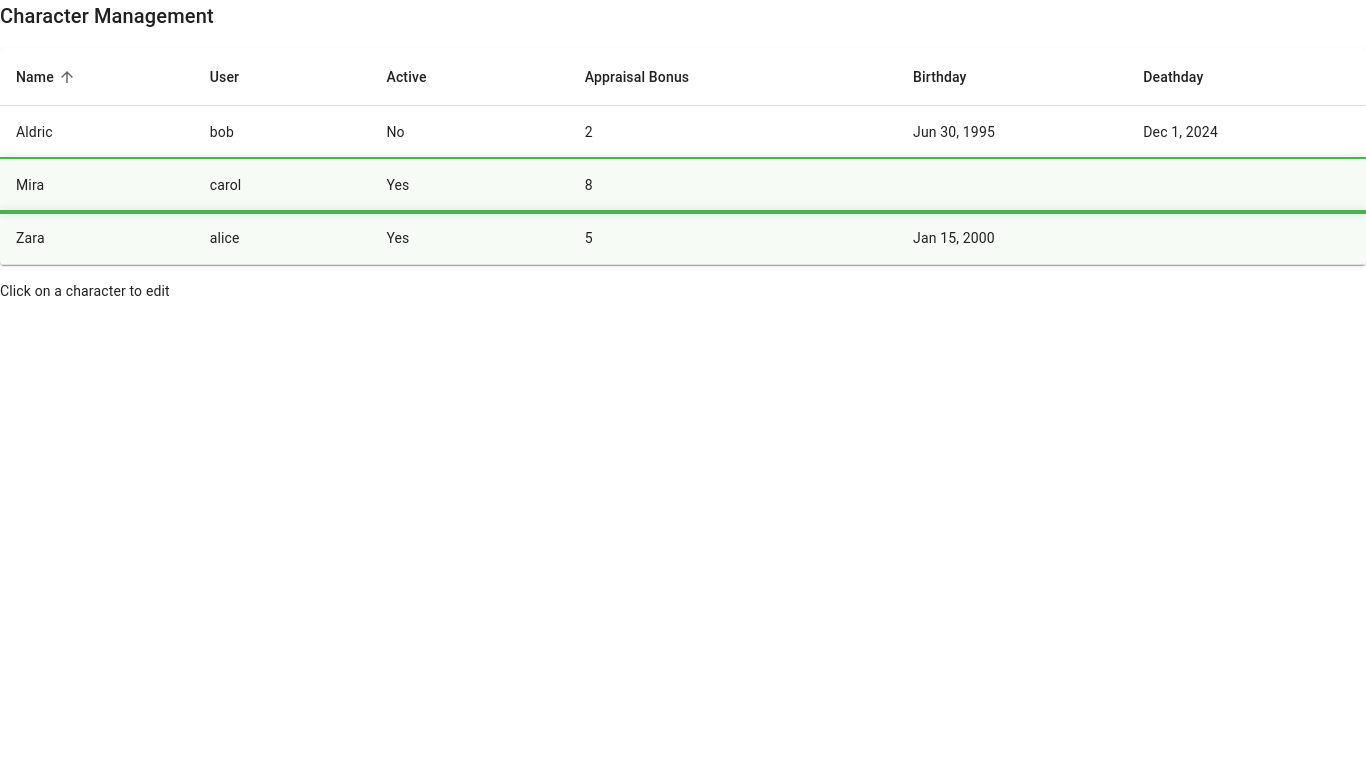
CharacterManagement (DMSettings) › updating a character › sends PUT to /user/update-any-character with the merged payload and closes dialog on success
Click the row "Zara". click: (683, 238)
box: [0,212,1365,265]
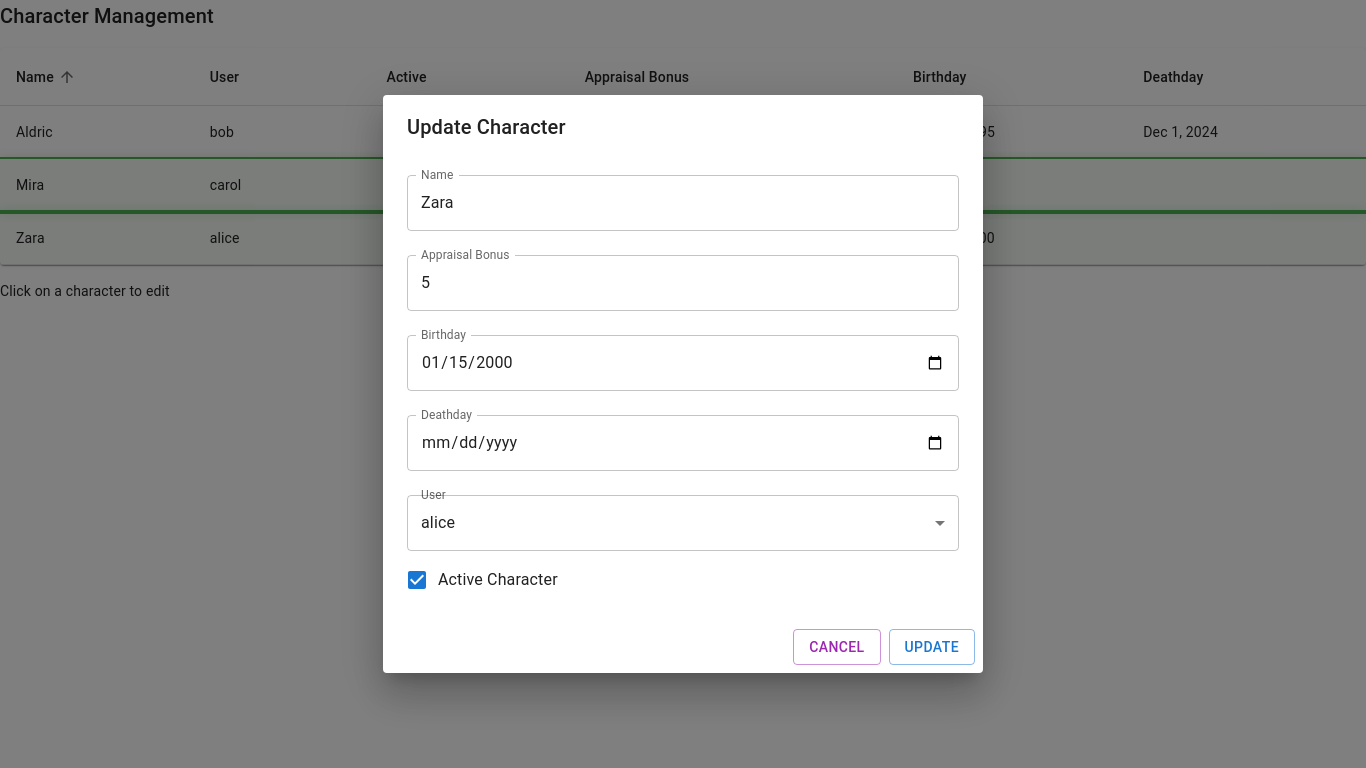
// Change the name
Replace the text in the field labelled "Name" with "Zara the Bold". click: (683, 203)
box: [407,175,959,231]
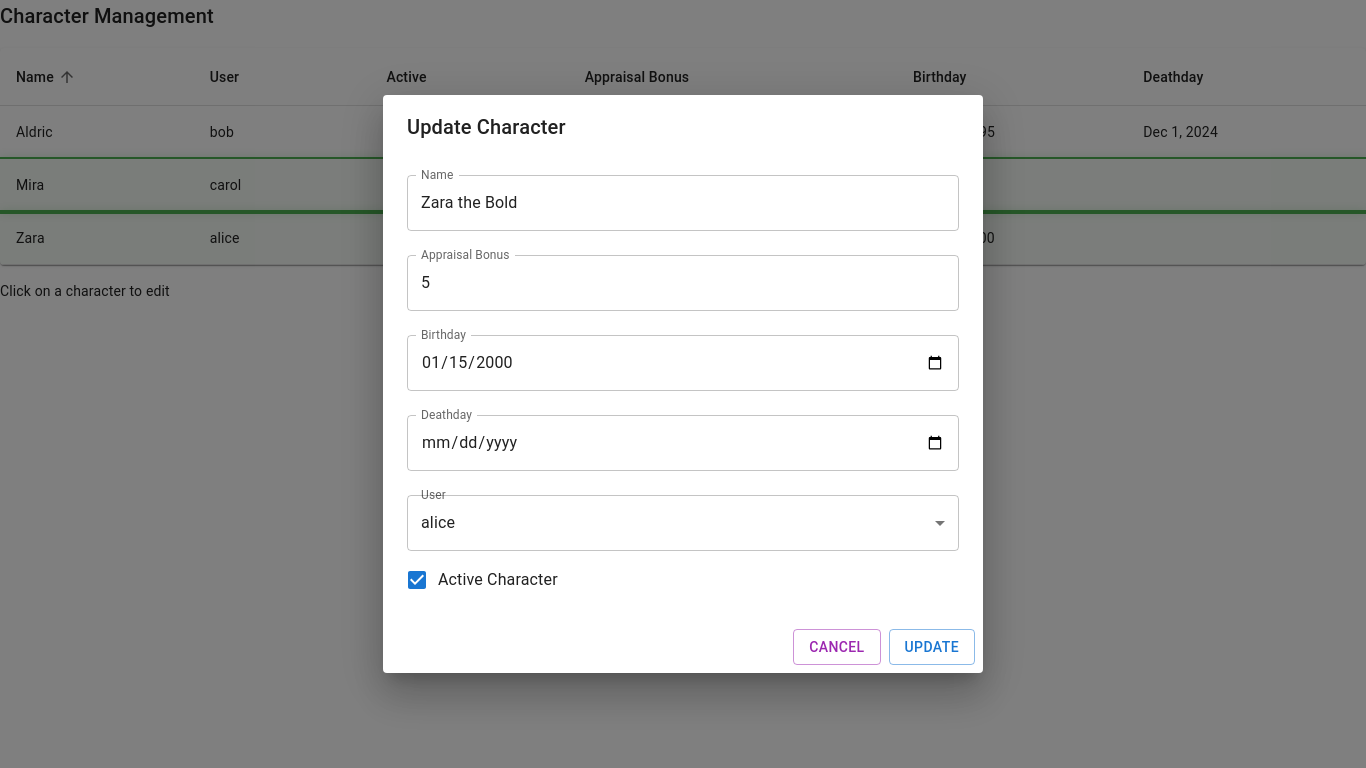
// Change appraisal bonus
Replace the text in the number field labelled "Appraisal Bonus" with "7". click: (683, 283)
box: [407,255,959,311]
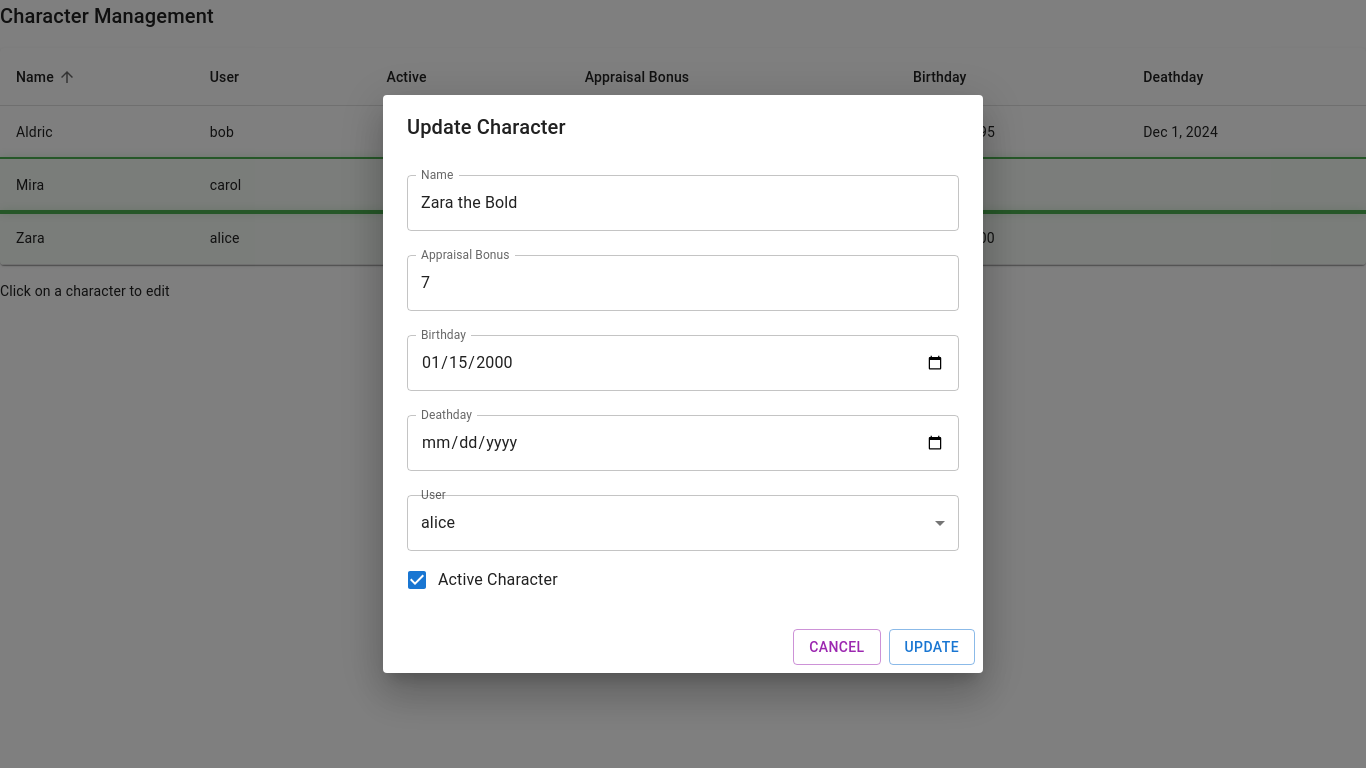
// Toggle active off
Click the checkbox labelled "Active Character". click: (481, 580)
box: [405,568,558,592]
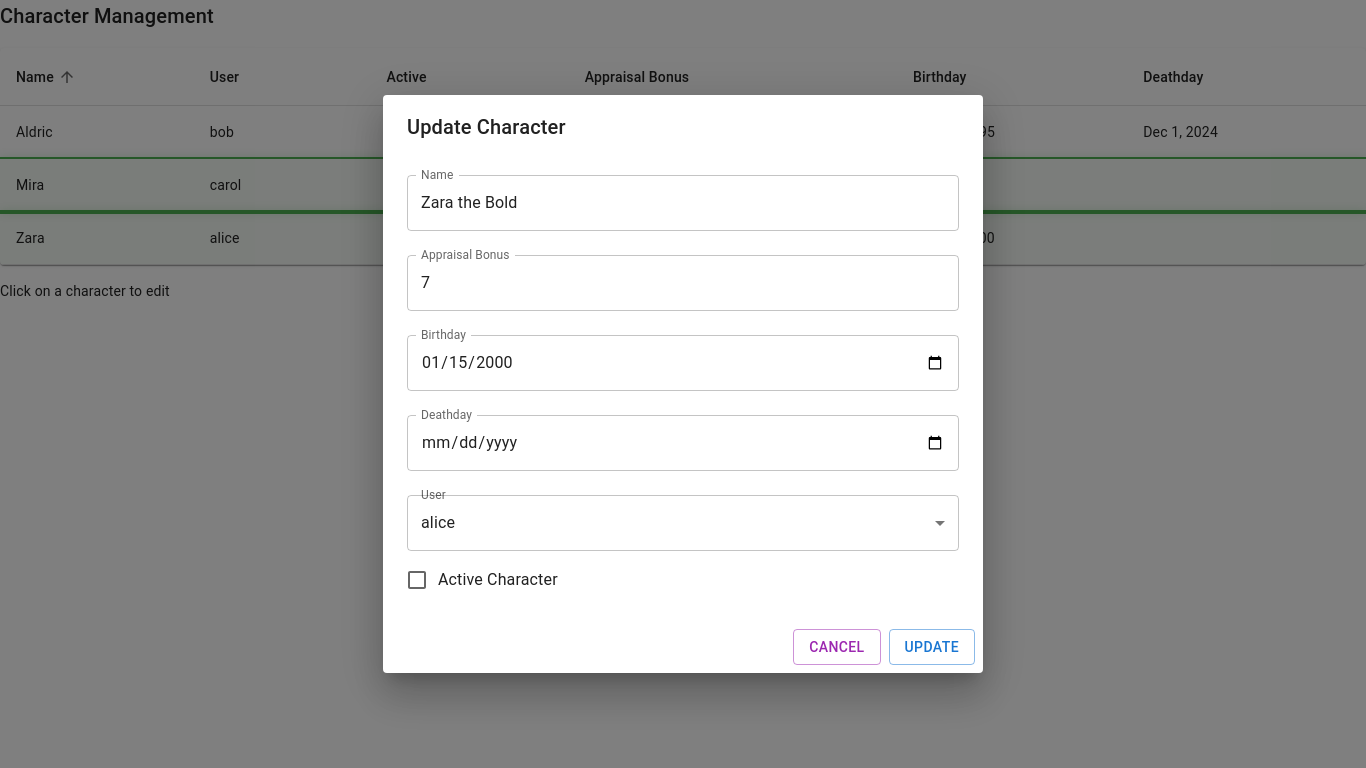
Expected: the checkbox labelled "Active Character" is not checked, [405,568,558,592]
// Set deathday to a value
Type "2026-04-01" into the date field labelled "Deathday". click: (683, 443)
box: [407,415,959,471]
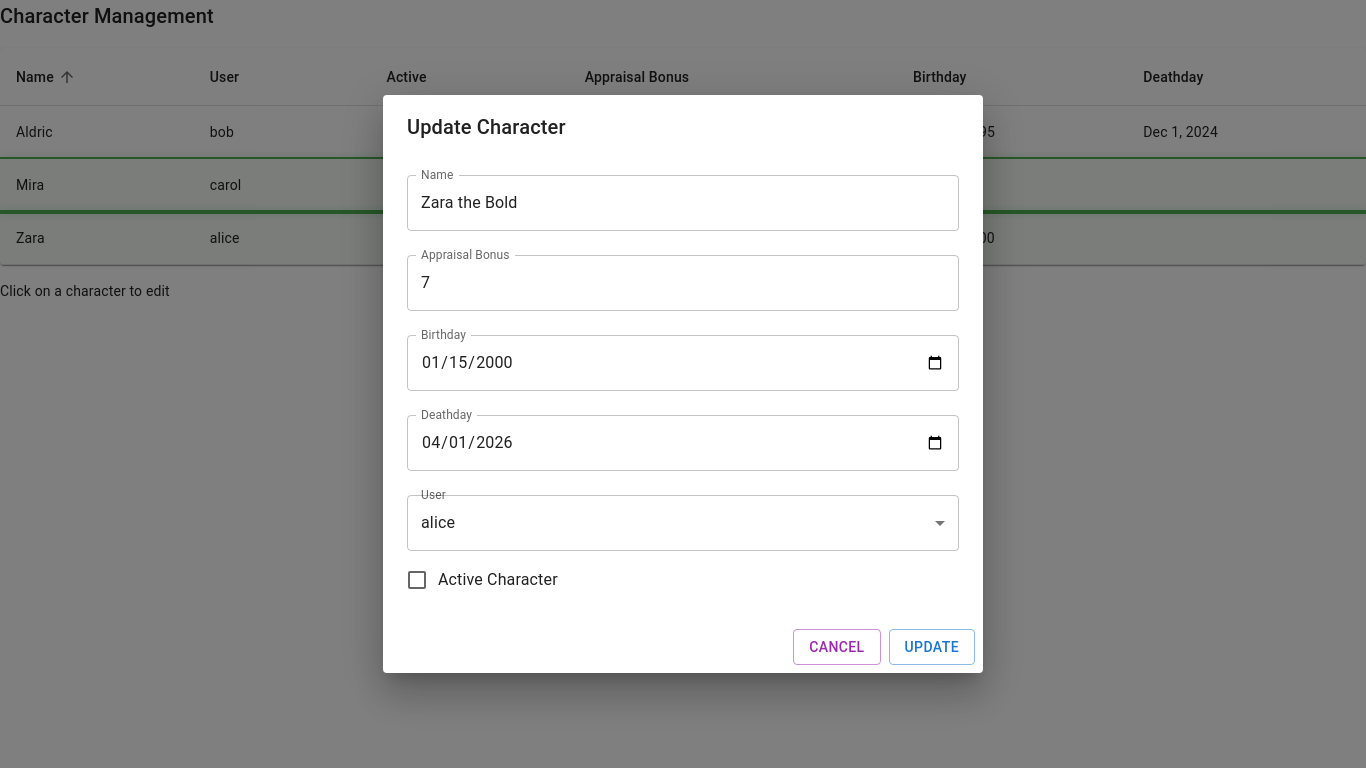
// Click Update
Click the button "Update". click: (932, 647)
box: [889,629,975,665]
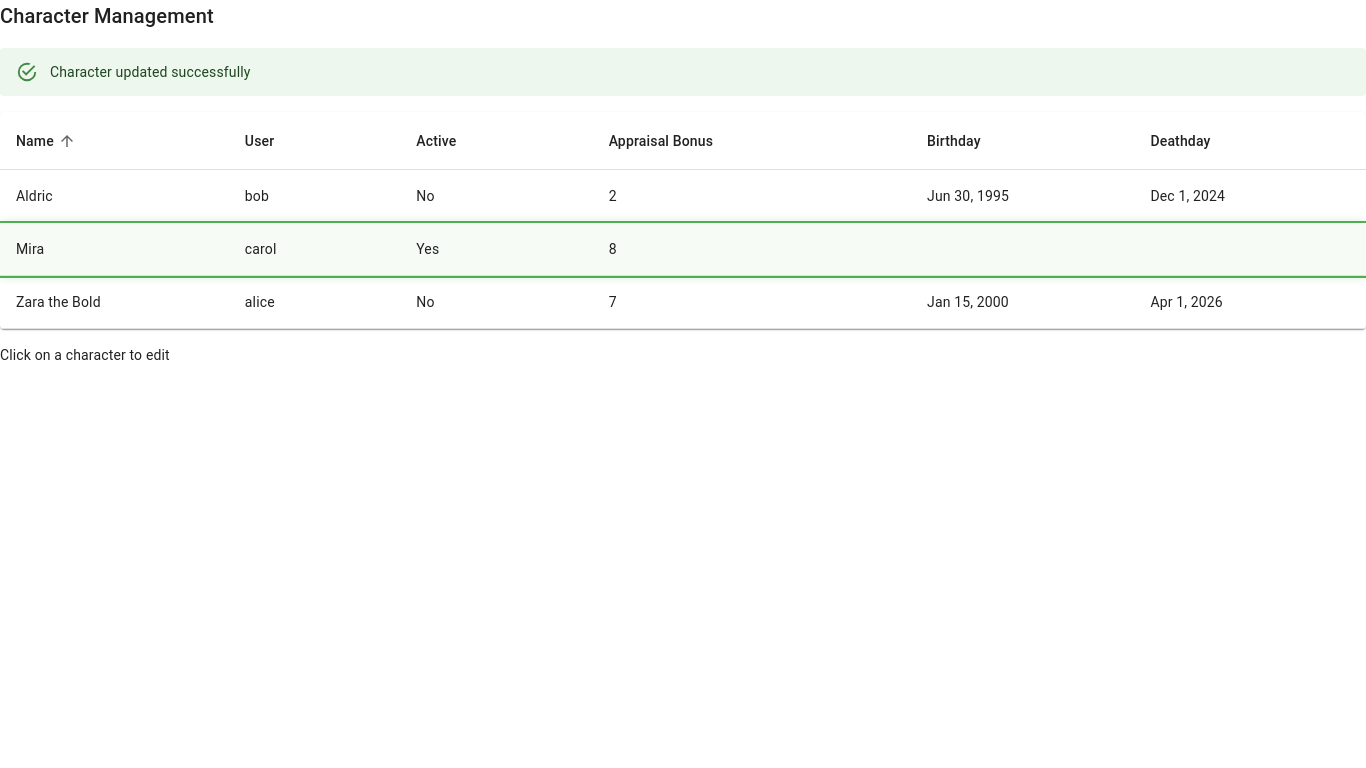
Expected: the dialog is gone
Expected: the text "Character updated successfully" is shown, [50,64,250,80]
Expected: the cell "Zara the Bold" is shown, [0,276,229,329]
